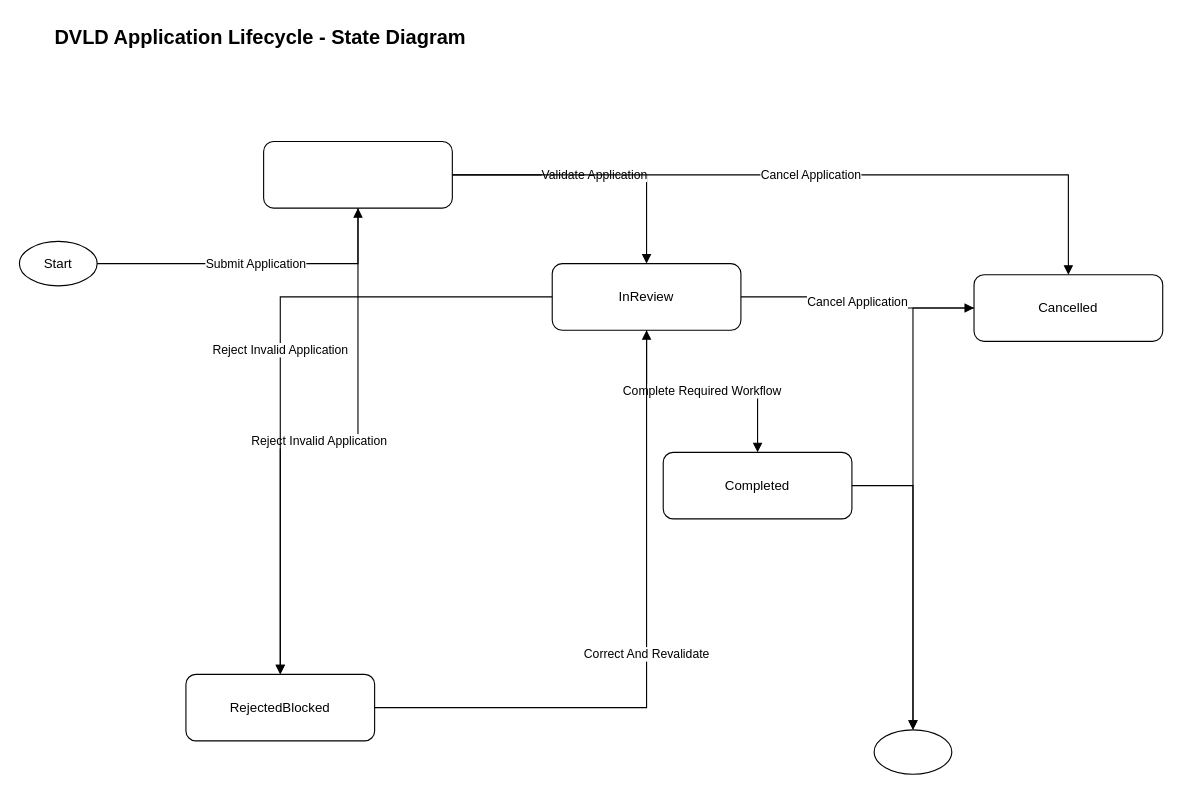
The diagram is 1182 pixels wide and 794 high, and some of its shapes have lost their labels. Here are the shapes that lost their labels. From the top down, the centre of each, then its label:
the point at 357,174: New
the point at 912,751: End
